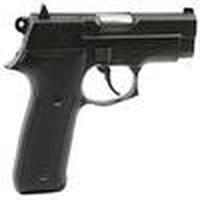gun: (6, 6, 197, 194)
